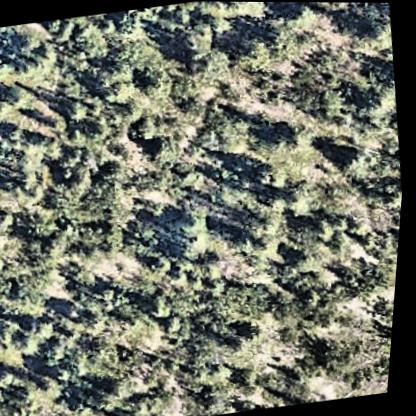tree-top: (58, 182, 135, 267), (4, 28, 59, 78), (76, 346, 134, 387), (262, 16, 311, 61), (229, 29, 276, 75), (176, 20, 219, 65), (252, 126, 304, 162), (350, 100, 391, 135), (317, 341, 355, 377), (24, 315, 62, 349), (364, 13, 395, 54), (82, 309, 117, 345), (92, 382, 128, 414), (293, 287, 329, 319), (307, 214, 341, 246), (338, 148, 373, 179), (194, 249, 229, 280), (101, 80, 137, 110), (220, 1, 269, 23), (271, 261, 309, 289), (146, 293, 178, 326), (177, 204, 209, 237), (251, 162, 286, 192), (0, 211, 26, 251), (145, 134, 177, 166), (228, 332, 260, 363), (375, 180, 403, 215), (63, 121, 94, 152), (2, 84, 34, 114), (176, 159, 205, 190), (100, 58, 131, 87), (132, 113, 162, 142), (39, 237, 69, 265), (136, 73, 167, 100), (15, 181, 46, 208), (62, 97, 89, 124), (39, 373, 67, 399), (68, 394, 99, 416), (150, 254, 177, 279), (235, 233, 261, 256), (166, 314, 188, 337), (0, 369, 21, 391), (0, 99, 7, 127), (117, 411, 141, 416)
